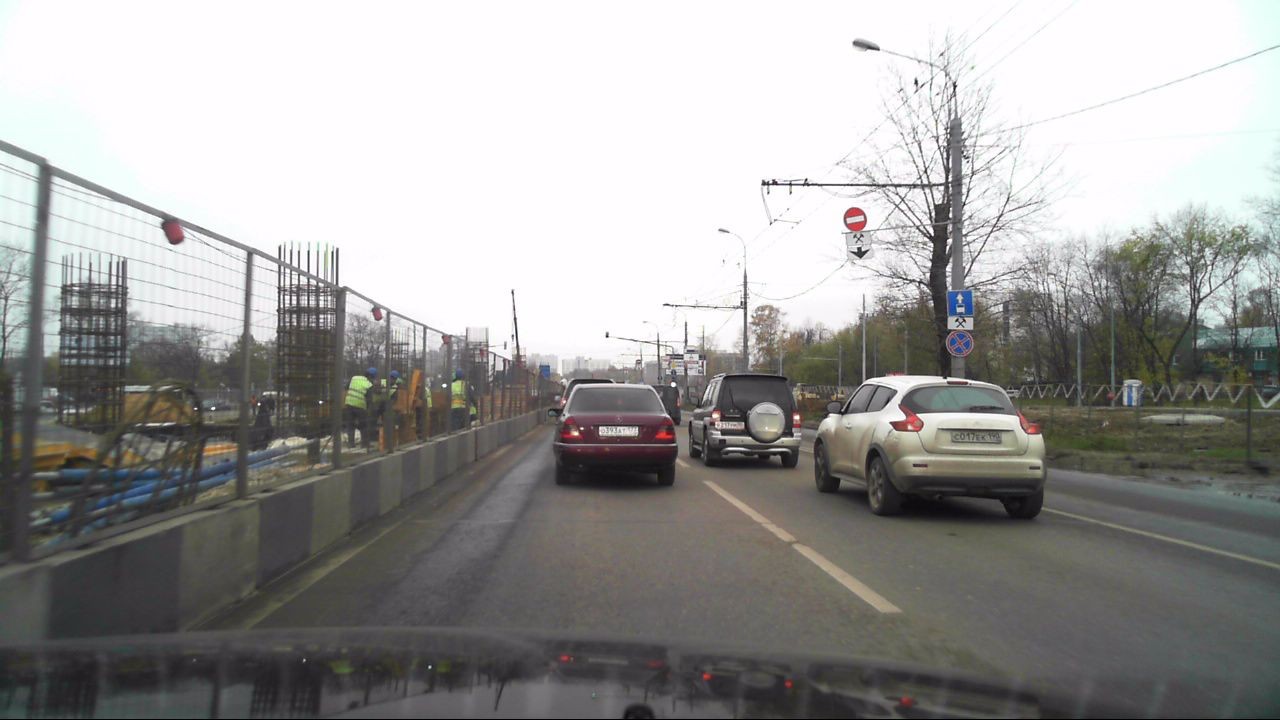No Parking: (945, 330, 974, 358)
